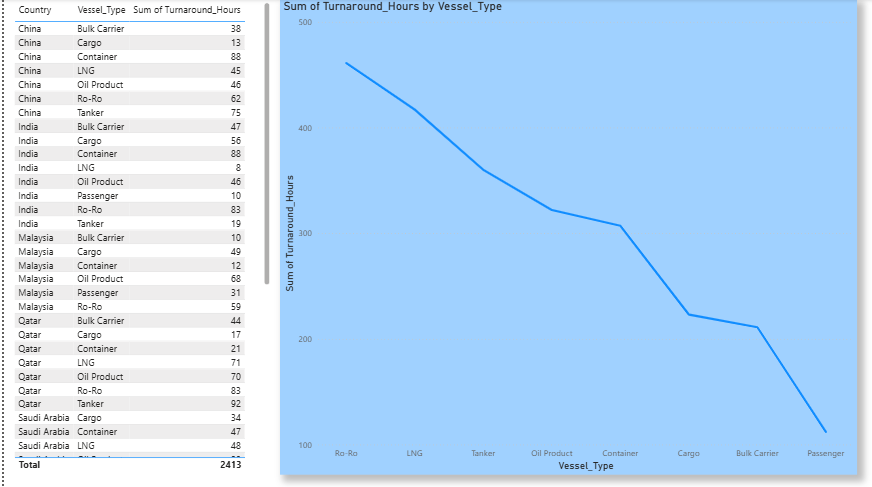

This screenshot's page, from the dashboard's own definition file:
{"tool":"powerbi","page":{"name":"Page 2","canvas":[1280,720],"ordinal":1},"visuals":[{"type":"tableEx","fields":{"Values":["port_vessel_data_mumbai_100 (2).Country","port_vessel_data_mumbai_100 (2).Vessel_Type","Sum(port_vessel_data_mumbai_100 (2).Turnaround_Hours)"]},"box":[10.4,0,378,684.7],"z":0},{"type":"lineChart","fields":{"Category":["port_vessel_data_mumbai_100 (2).Vessel_Type"],"Y":["Sum(port_vessel_data_mumbai_100 (2).Turnaround_Hours)"]},"box":[397.4,0,830.5,684.7],"z":1000}]}

Visuals, with their boxes in screenshot pixels (x1, y1, x2, y2), scaled from the page's 1280x720 canvas onto the 872x487 screenshot:
tableEx - port_vessel_data_mumbai_100 (2).Country x port_vessel_data_mumbai_100 (2).Vessel_Type: <bbox>7, 0, 265, 463</bbox>
lineChart - port_vessel_data_mumbai_100 (2).Vessel_Type x Sum(port_vessel_data_mumbai_100 (2).Turnaround_Hours): <bbox>271, 0, 837, 463</bbox>
